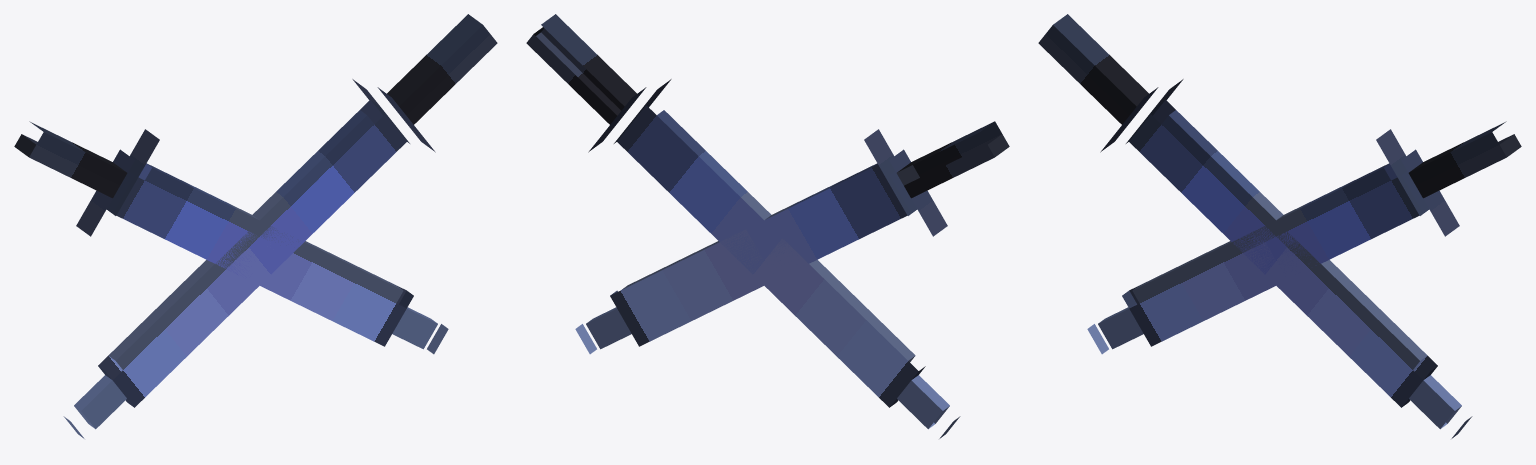
Rendered from sl_ender_excalibur.glb.
3 views of the same model, side by side, from view 1: azimuth 30°, elevation 25°; view 2: azimuth 150°, elevation 25°; view 3: azimuth 330°, elevation 25° (orthographic).
Visible parts, largest first — view 1: bb_ender_excalibur; view 2: bb_ender_excalibur; view 3: bb_ender_excalibur.
Boxes of the visible parts, bbox=[...] form: bb_ender_excalibur: bbox=[14, 14, 497, 438]; bb_ender_excalibur: bbox=[526, 14, 1009, 438]; bb_ender_excalibur: bbox=[1038, 14, 1521, 438].
Bounding box in the file's own units: 2.29 × 1.63 × 0.125.
1 material, 1 textured.
